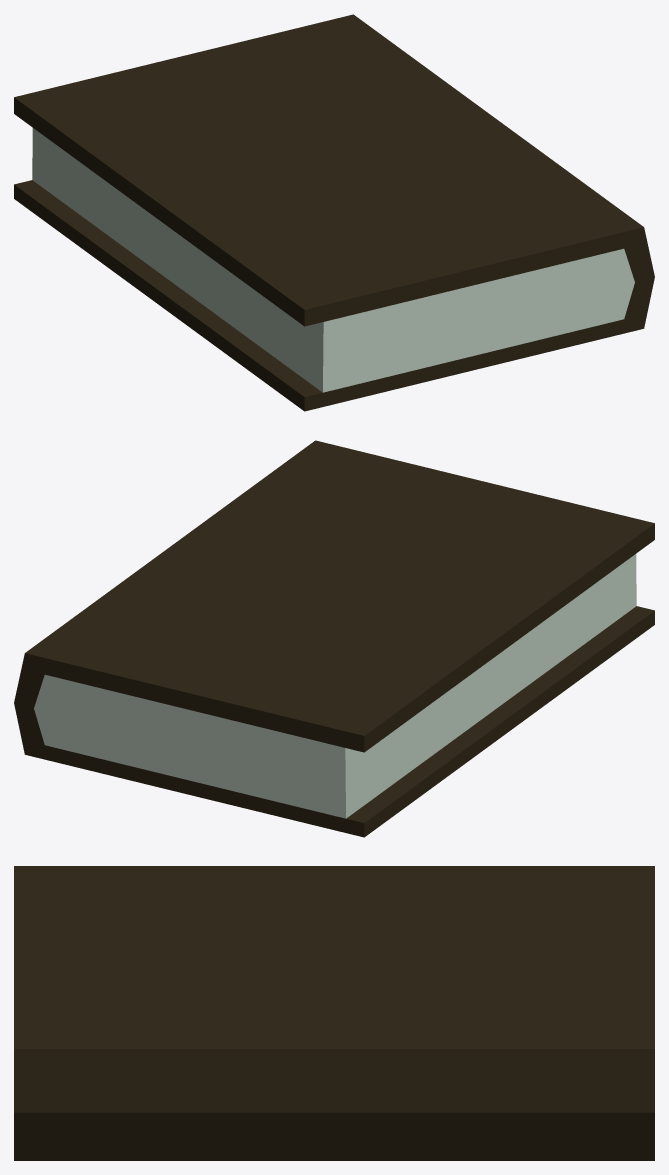
3 renders of one model, top to bottom at view 1: azimuth 30°, elevation 25°; view 2: azimuth 150°, elevation 25°; view 3: azimuth 270°, elevation 25°, orthographic. The views are drawn at different scales.
Parts seen in each view (by area): view 1: Box060; view 2: Box060; view 3: Box060.
Boxes of the visible parts, bbox=[...] form: Box060: bbox=[14, 14, 654, 411]; Box060: bbox=[14, 440, 654, 837]; Box060: bbox=[14, 866, 654, 1160].
Bounding box in the file's own units: 0.2681 × 0.0743 × 0.3852.
